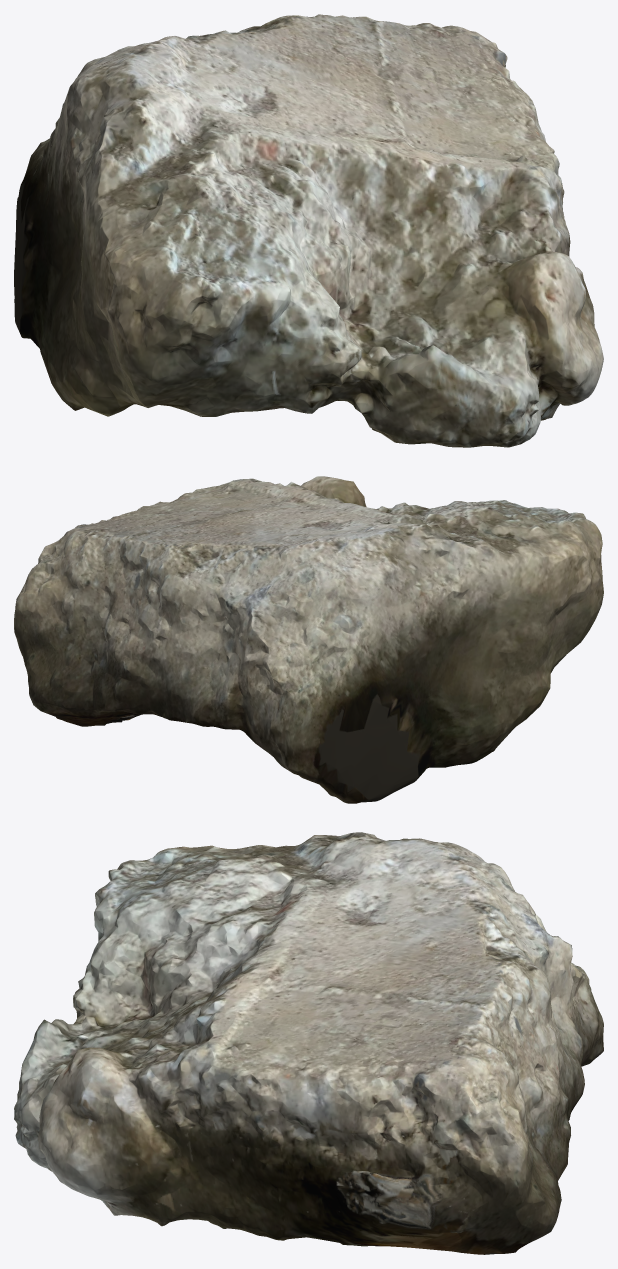
The model's file is FRAG-S1-FS-008.glb.
The picture shows the model from 3 angles, top to bottom: view 1: azimuth 30°, elevation 25°; view 2: azimuth 150°, elevation 25°; view 3: azimuth 270°, elevation 25°; orthographic projection. The views are drawn at different scales.
Visible parts, largest first — view 1: FRAG-S1-FS-008; view 2: FRAG-S1-FS-008; view 3: FRAG-S1-FS-008.
Part boxes in pixels (x1,y1,x2,y2): FRAG-S1-FS-008: (14, 14, 603, 447); FRAG-S1-FS-008: (14, 476, 603, 803); FRAG-S1-FS-008: (14, 832, 603, 1254).
Bounding box in the file's own units: 1.32 × 0.6637 × 1.34.
Materials: 1 (1 with a texture image).
